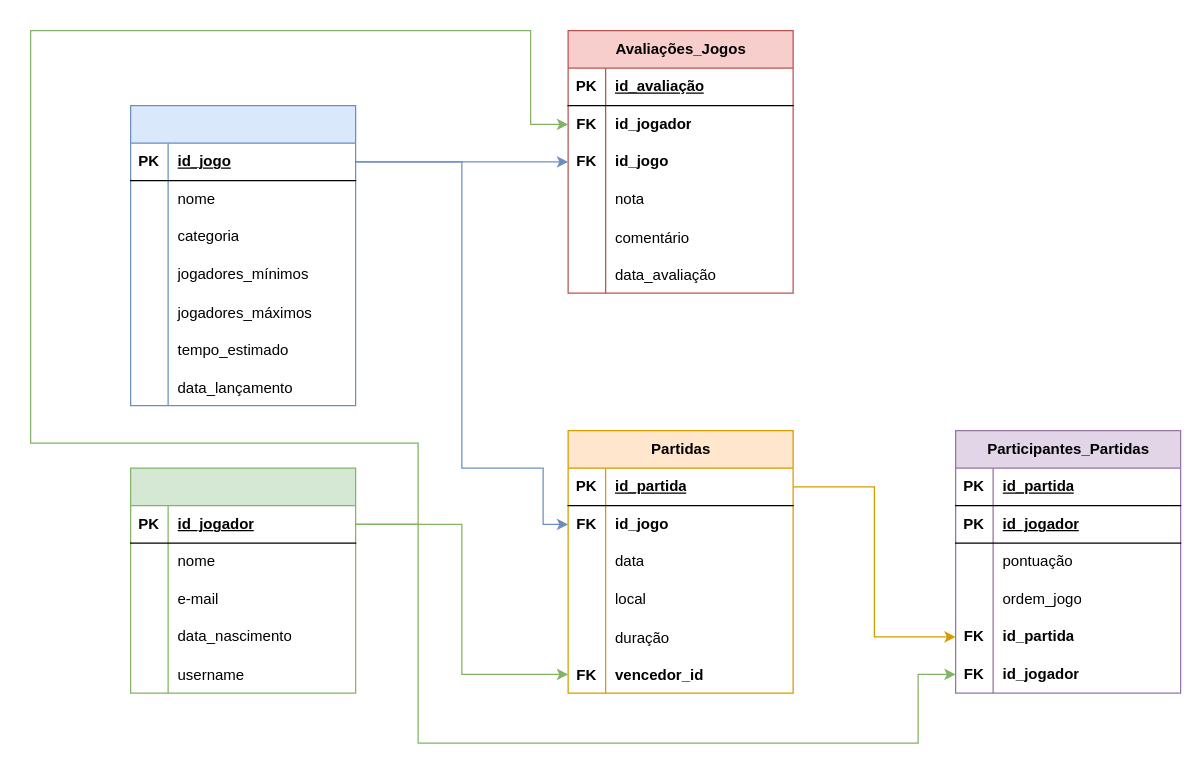
This 1203x775 diagram has some shape labels left out. The shapes that lost their labels are listed below. From the top down, each one's box as (x1, y1, x2, y2) in pixels, then its label:
(129, 104, 356, 406): Jogos
(129, 467, 356, 693): Jogadores
